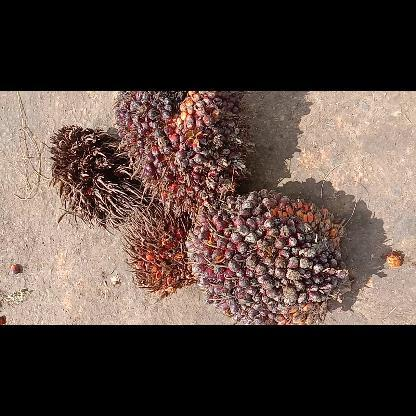Janjang kosong: (45, 123, 163, 237)
Kurang masak: (184, 188, 356, 324)
TBS masak: (110, 90, 256, 214)
Terlalu masak: (120, 200, 200, 302)
